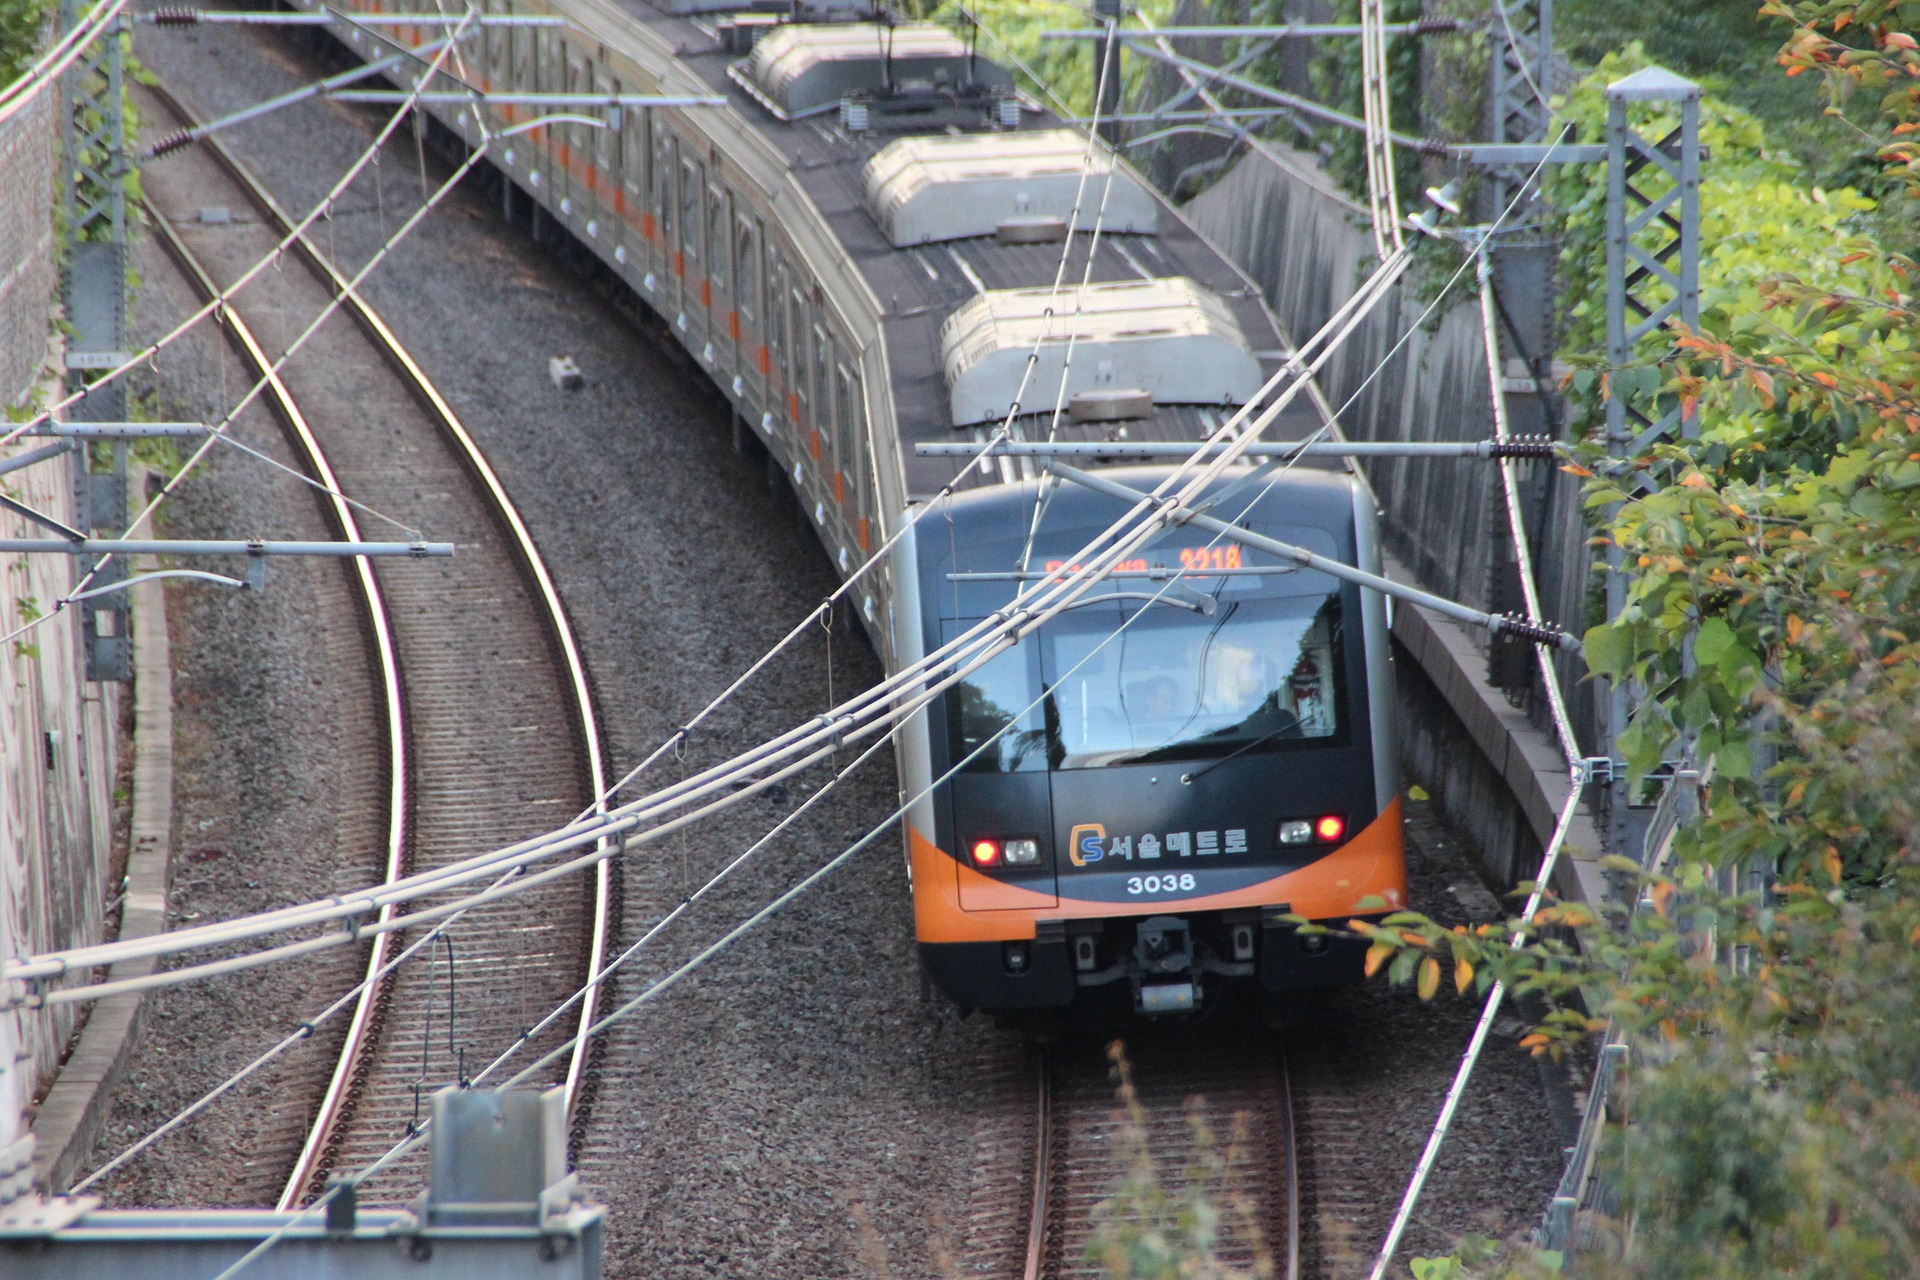train1: (316, 31, 1419, 1026)
